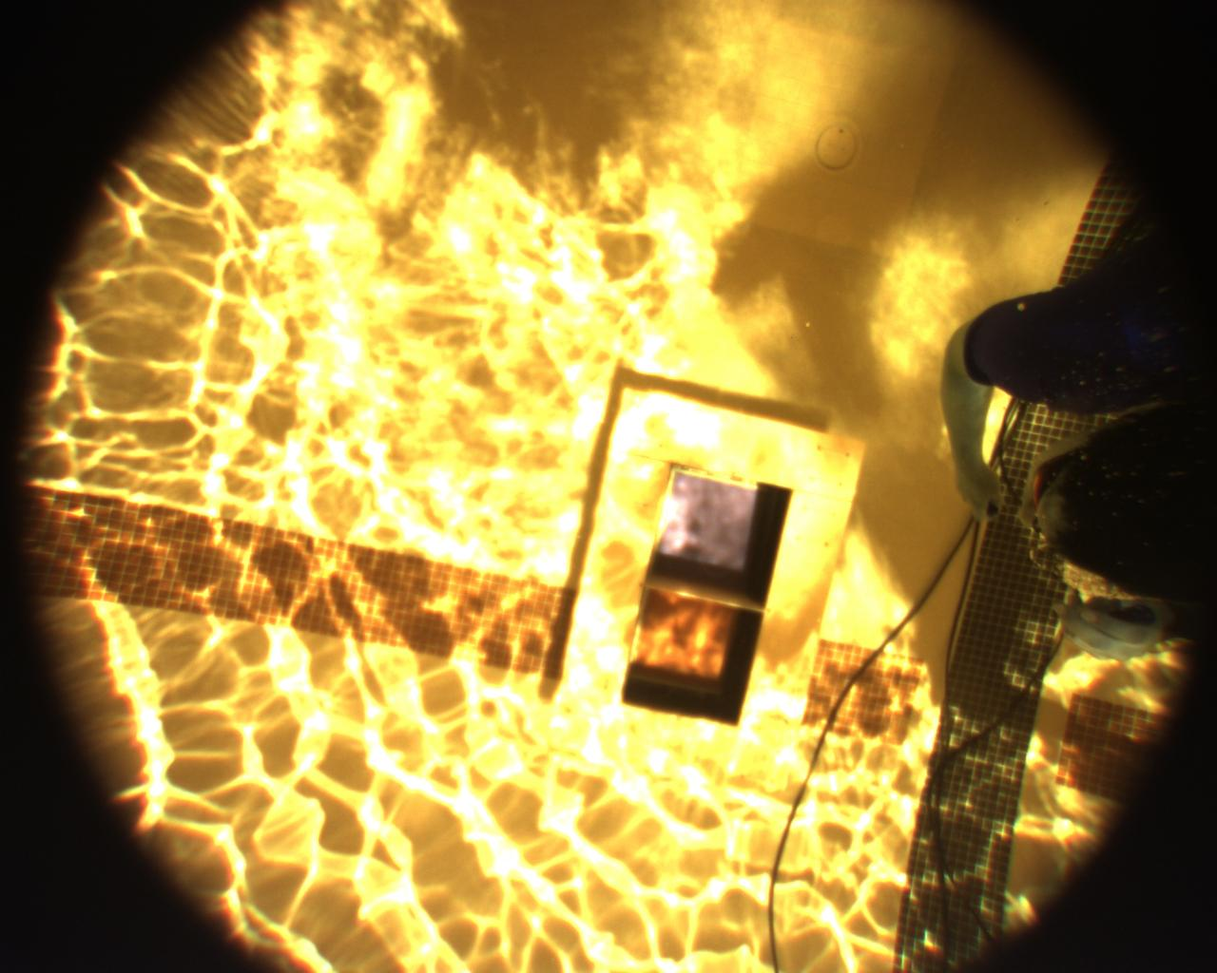dropper-box-top: (531, 372, 864, 782)
